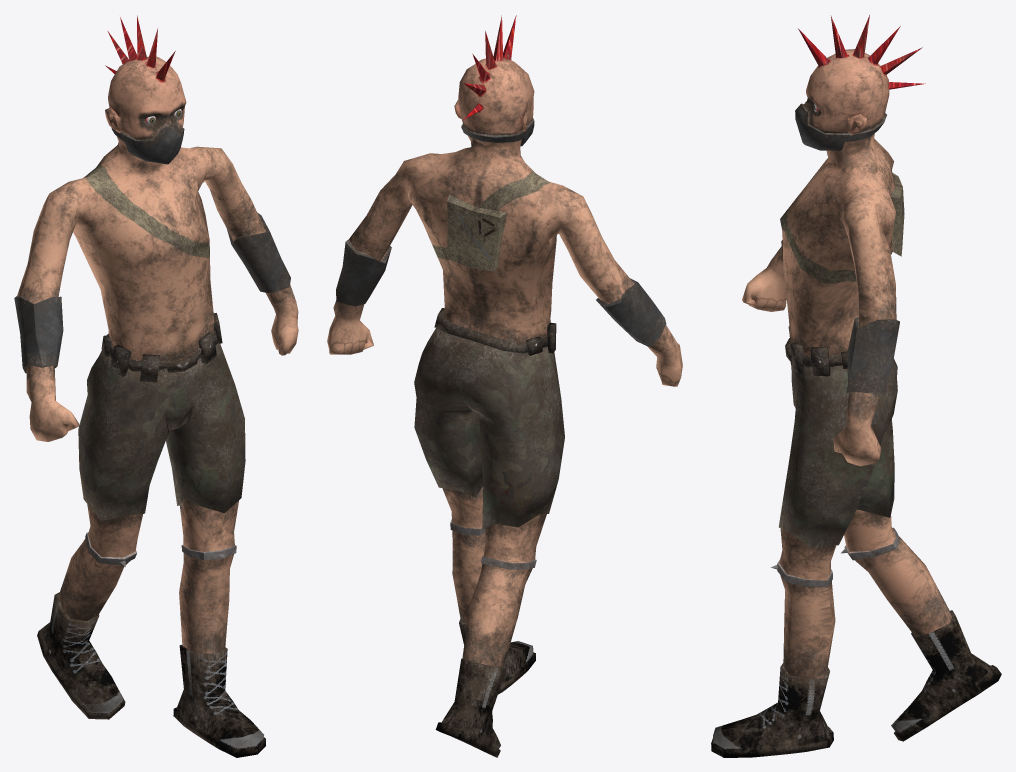
File: Anim_andar_npc2.0035.obj
3 renders of one model, left to right at view 1: azimuth 30°, elevation 25°; view 2: azimuth 150°, elevation 25°; view 3: azimuth 270°, elevation 25°, orthographic. The views are drawn at different scales.
Visible parts, largest first — view 1: Anim_andar_npc2; view 2: Anim_andar_npc2; view 3: Anim_andar_npc2.
Boxes of the visible parts, x1,y1,x2,y2 form: Anim_andar_npc2: (14,15,298,757); Anim_andar_npc2: (327,15,682,757); Anim_andar_npc2: (711,15,1001,757).
Size of the model in its own units: 4.71 by 10.37 by 3.73.
